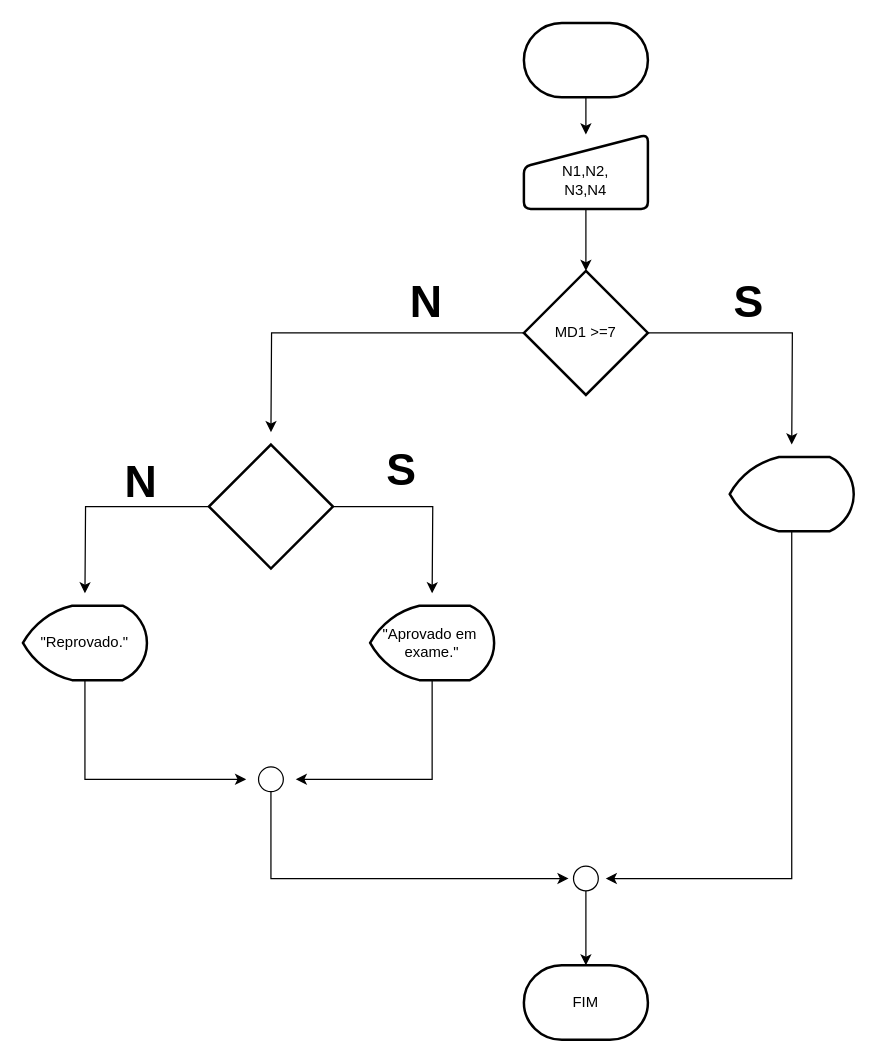
The diagram is 875 pixels wide and 1061 high, and some of its shapes have lost their labels. The shapes that lost their labels are listed below. From the top down, each one's centre as x and y in pixels, then its label:
the point at 585,59: inicio
the point at 270,506: MD2 >= 5
the point at 791,493: "Aprovado", MD1
